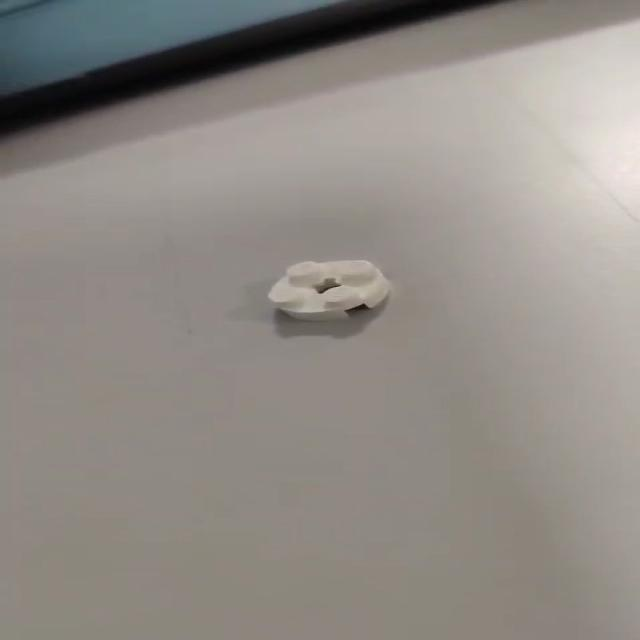S2x2x0: (265, 258, 391, 322)
